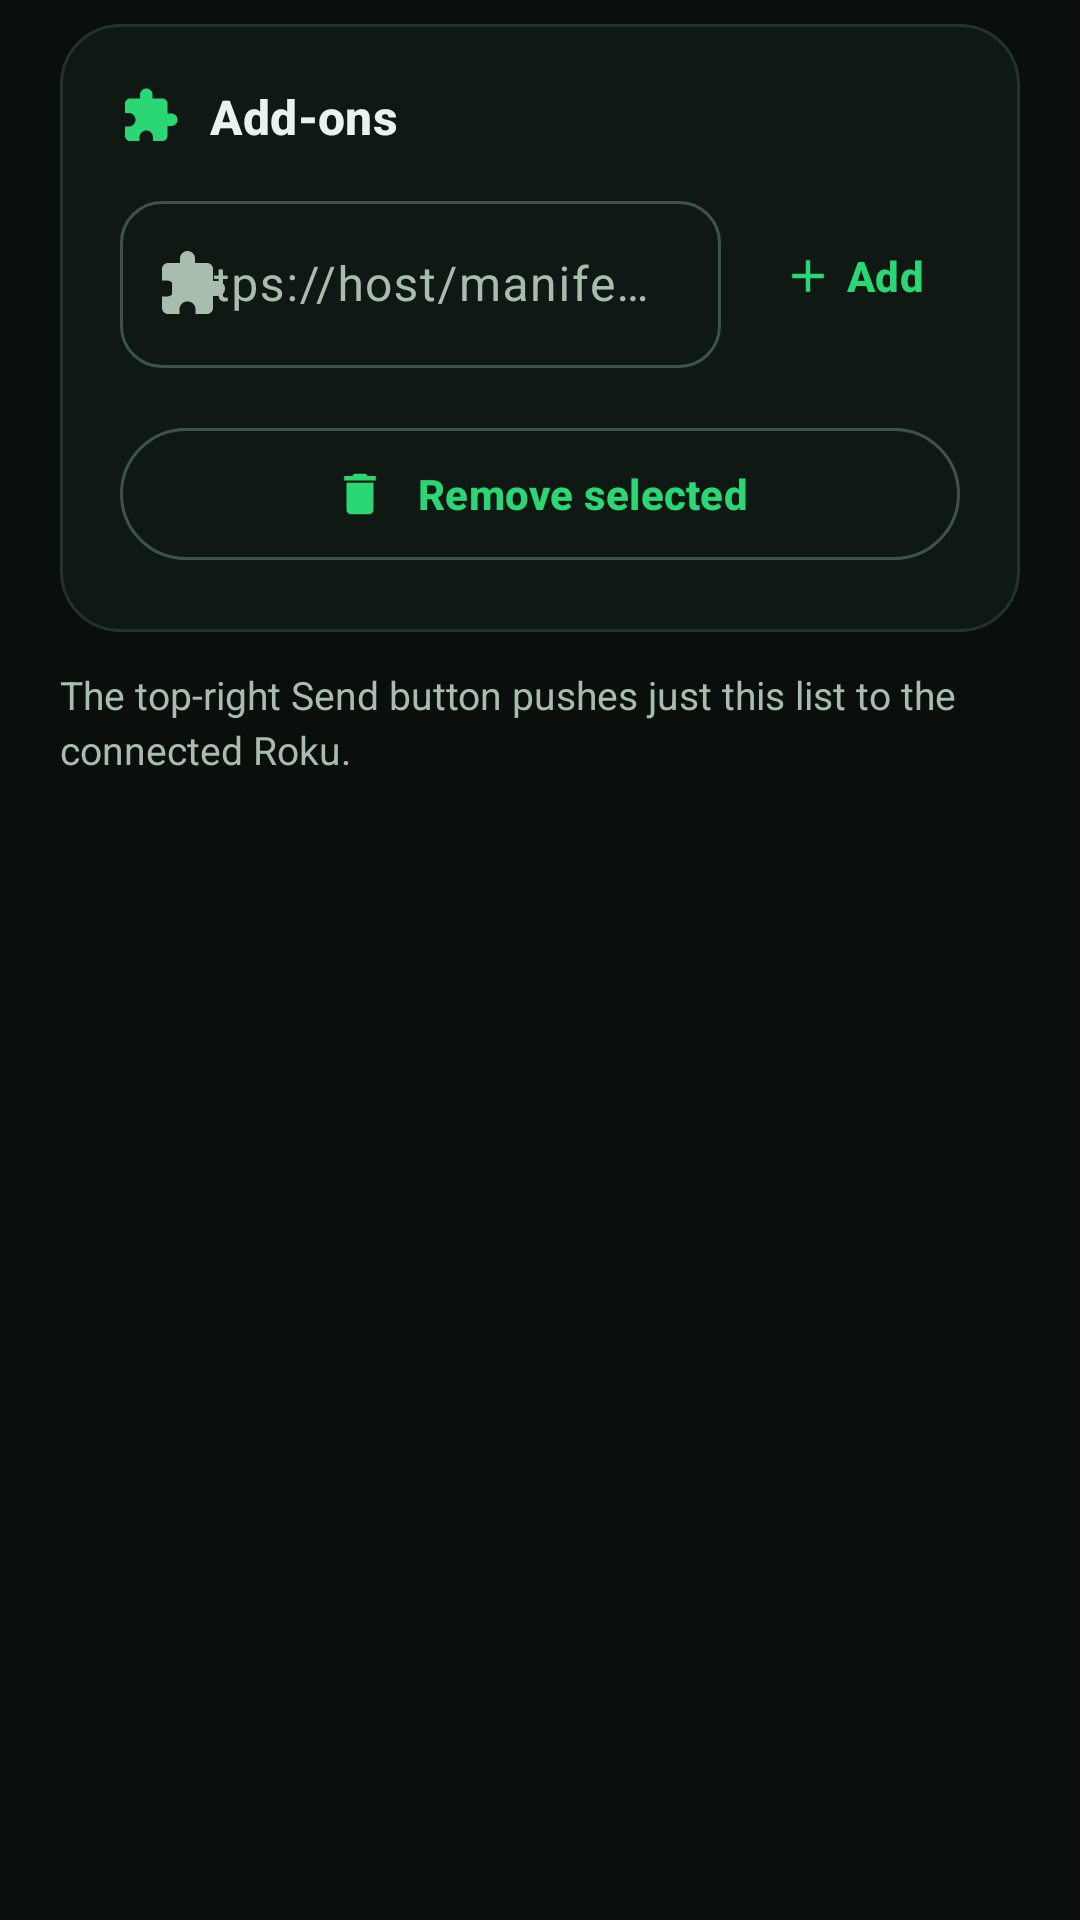

Where icons sit on this 1080x1920 app screen, as (x1, y1, x2, y2):
extension: (125, 88, 178, 141)
